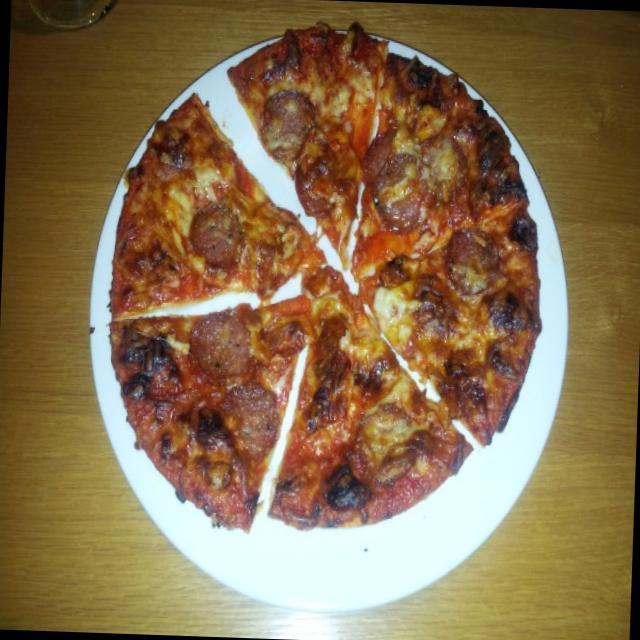Pizza: (97, 18, 550, 544)
